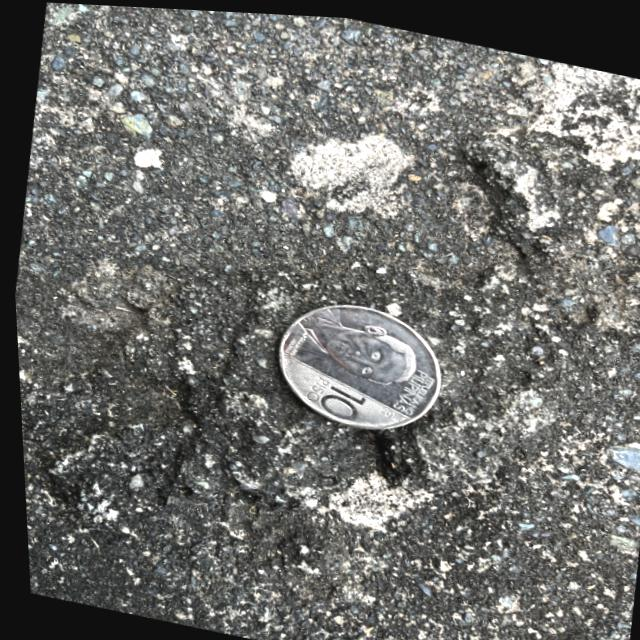10_New_Front: (296, 369, 376, 430)
